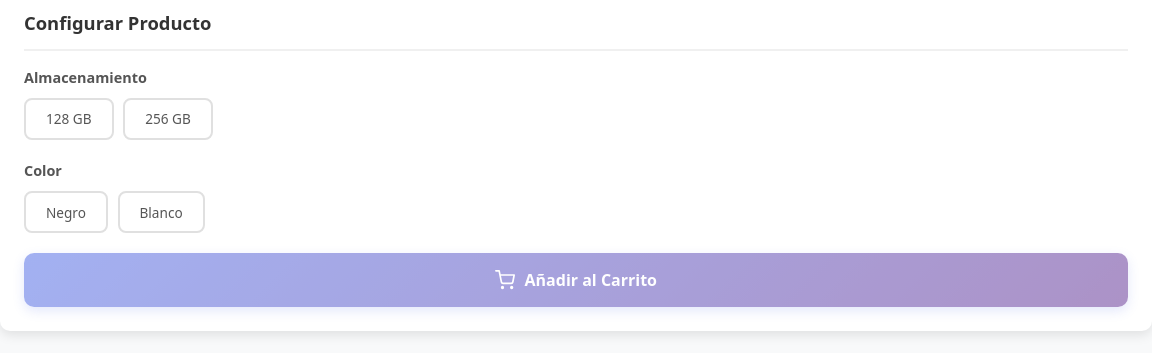
it: Actions Component › should enable add button when both options selected
Expected: the button "Añadir al Carrito" is disabled, [24,253,1128,307]
Click the button "128 GB" at (69,119), box [24,98,114,140]
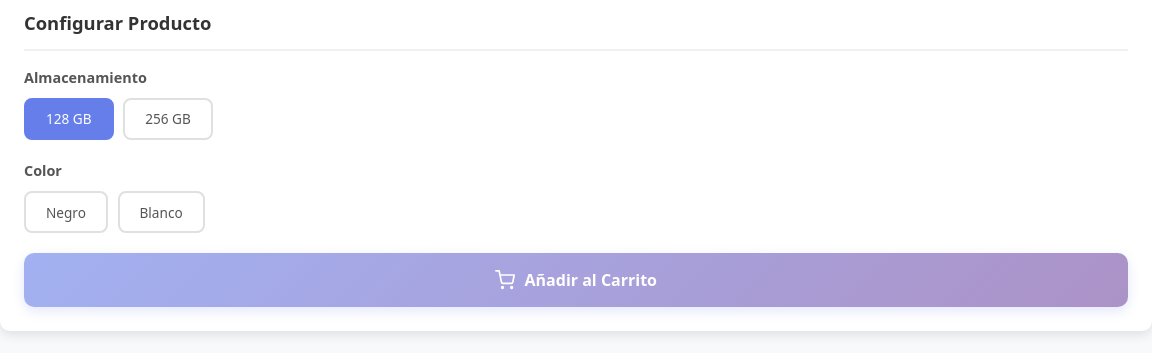
Click the button "Negro" at (66,212), box [24,191,108,233]
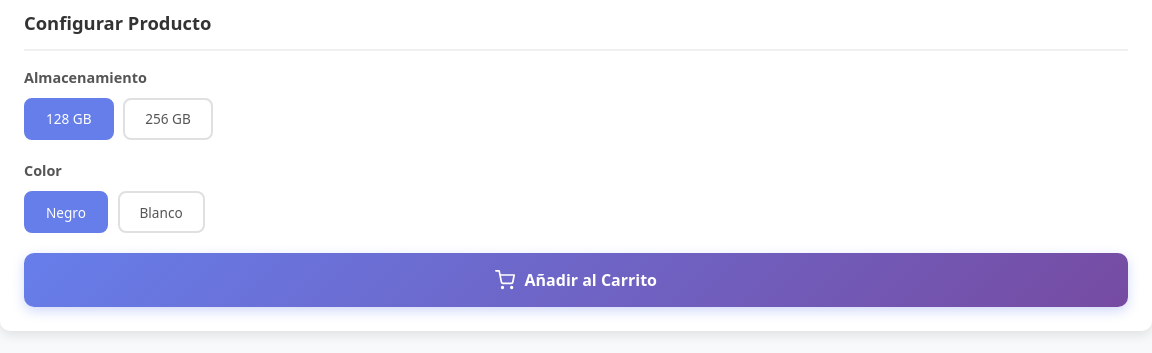
Result: the button "Añadir al Carrito" is enabled at [24,253,1128,307]
